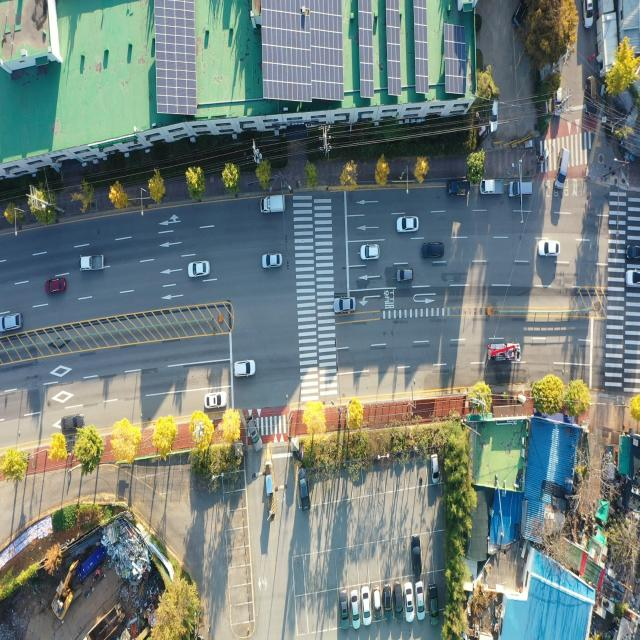car: (232, 355, 258, 383), (0, 310, 26, 336), (357, 240, 383, 266), (298, 463, 312, 509), (555, 149, 570, 191), (536, 237, 562, 261), (247, 417, 264, 453), (203, 386, 228, 410), (332, 294, 357, 318), (339, 587, 351, 636), (187, 258, 212, 280), (396, 213, 421, 235), (428, 584, 441, 626), (415, 577, 426, 625), (507, 180, 533, 200), (411, 533, 423, 575), (360, 585, 371, 629), (404, 578, 415, 622), (421, 241, 446, 260), (262, 252, 284, 273), (383, 580, 393, 625), (553, 82, 565, 118), (487, 93, 497, 136), (623, 267, 640, 290), (350, 585, 359, 628), (394, 581, 404, 619), (428, 452, 439, 484), (372, 585, 382, 619), (396, 266, 414, 284), (48, 278, 68, 294), (626, 244, 640, 263)
medium_truck: (78, 596, 128, 640)
small_truck: (486, 342, 522, 362), (259, 194, 285, 216), (79, 254, 105, 273), (585, 74, 597, 114), (479, 178, 505, 196), (448, 180, 470, 197)
